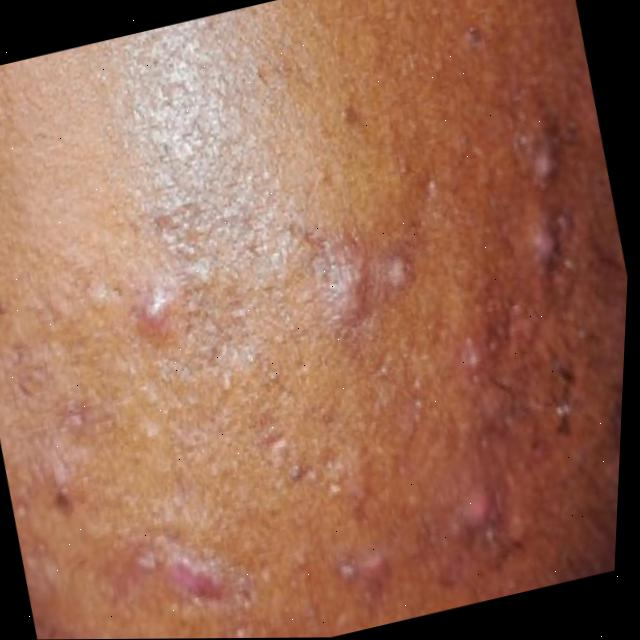Acne: (0, 60, 637, 640)
